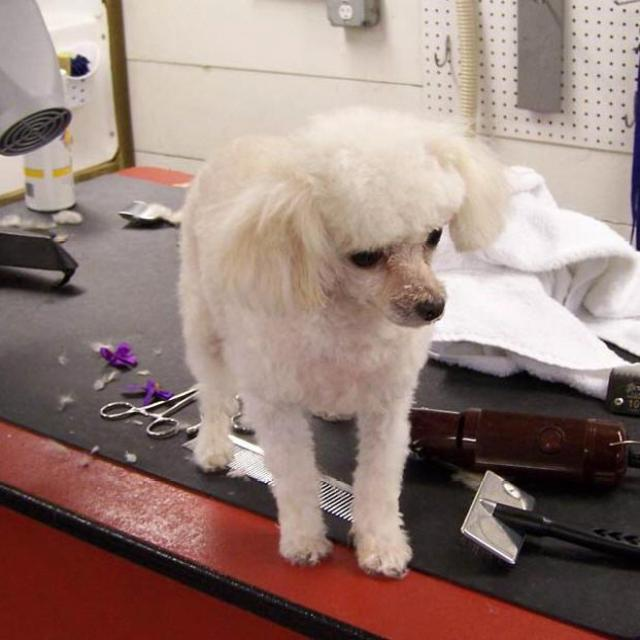adult_dog: (177, 106, 510, 576)
